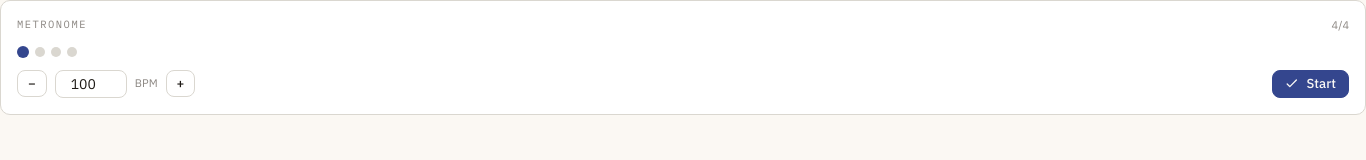
Metronome › bumps BPM with the +/- controls
Click the button with test id "metronome-bump-up" at (180, 84), box [166,70,195,97]
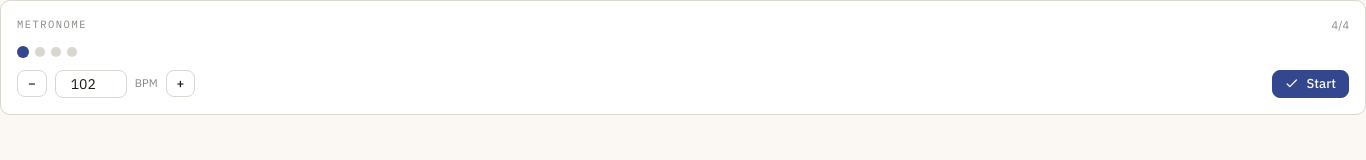
Result: the number field with test id "metronome-bpm" holds "102" at [55,70,127,98]
Click the button with test id "metronome-bump-down" at (32, 84), box [17,70,47,97]
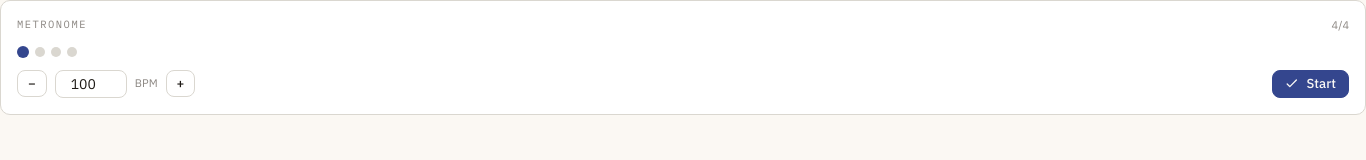
Click the button with test id "metronome-bump-down" at (32, 84), box [17,70,47,97]
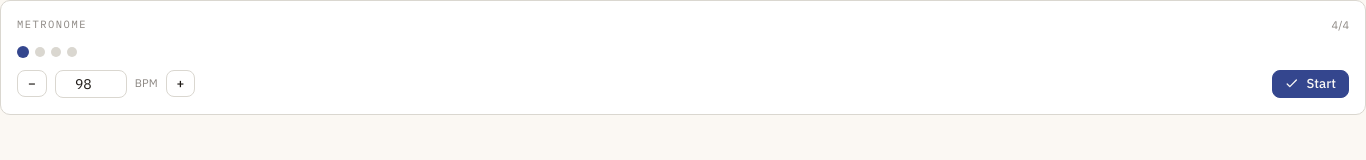
Result: the number field with test id "metronome-bpm" holds "98" at [55,70,127,98]
